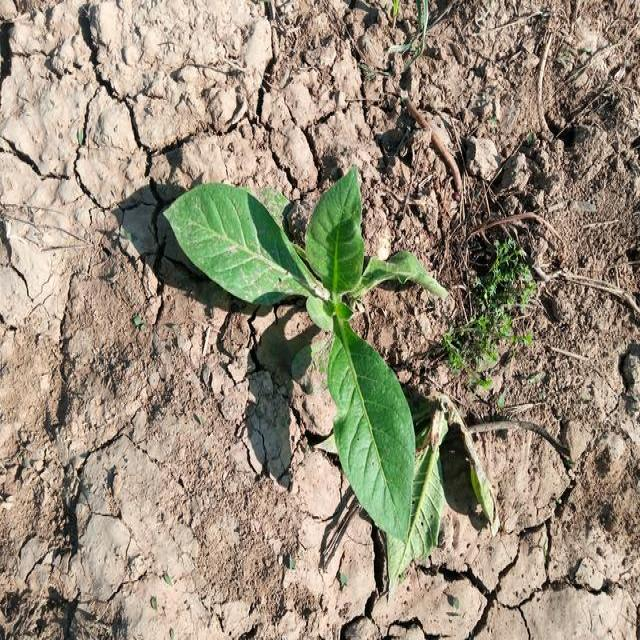crop: (160, 178, 490, 562)
